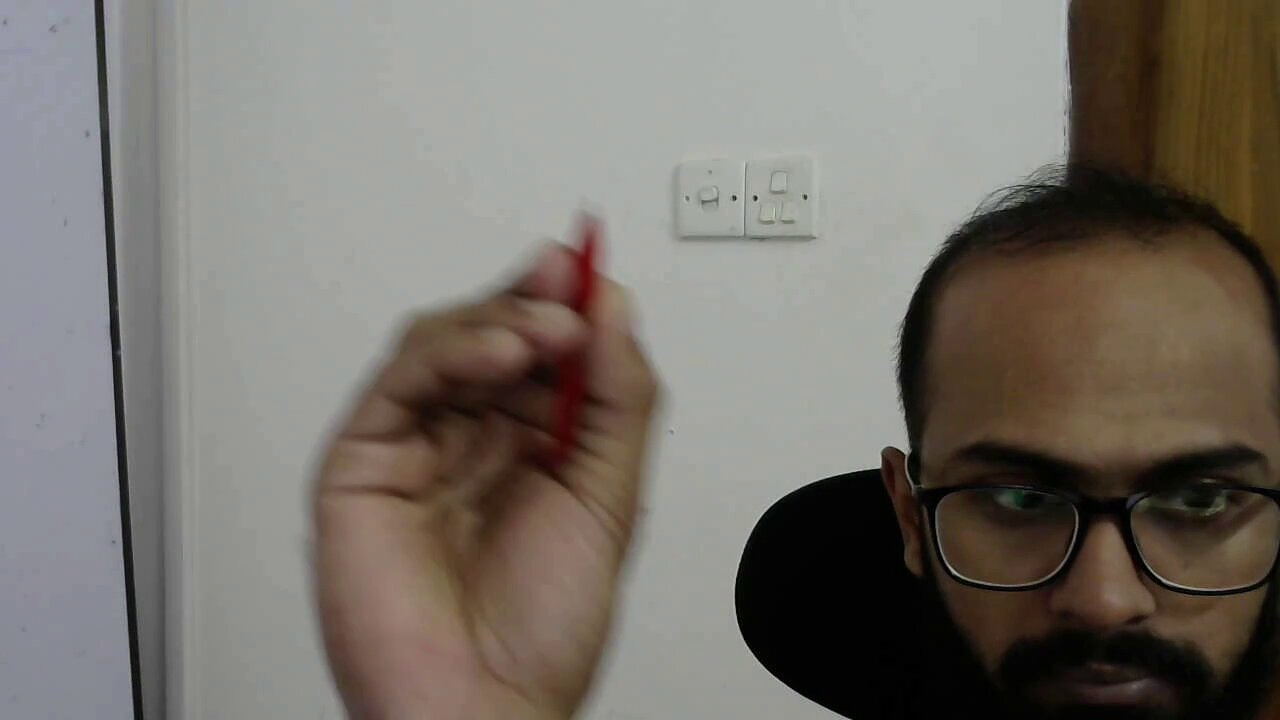pointer: (311, 233, 661, 590)
